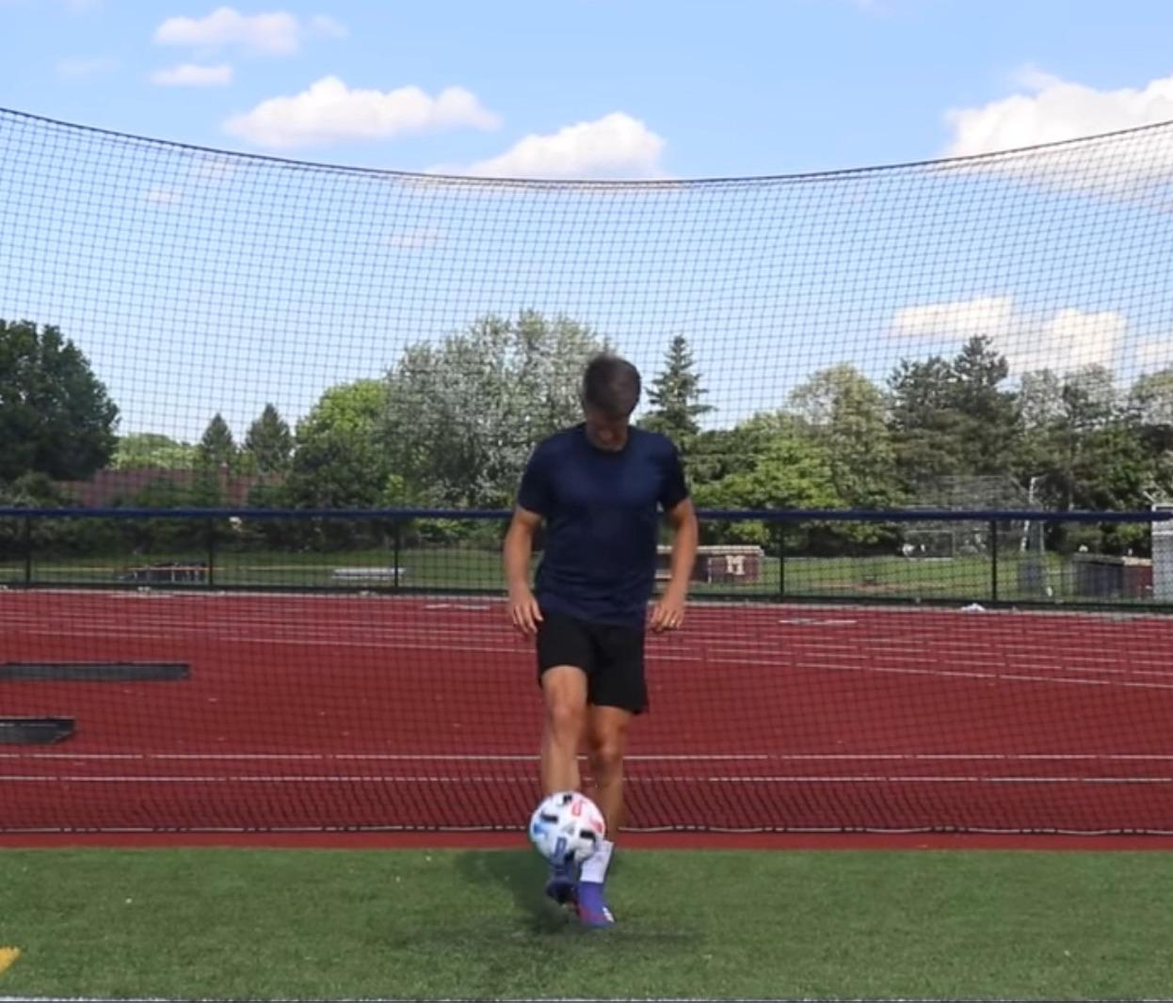ball: (528, 792, 606, 865)
foot: (571, 877, 615, 925)
person: (505, 358, 700, 930)
